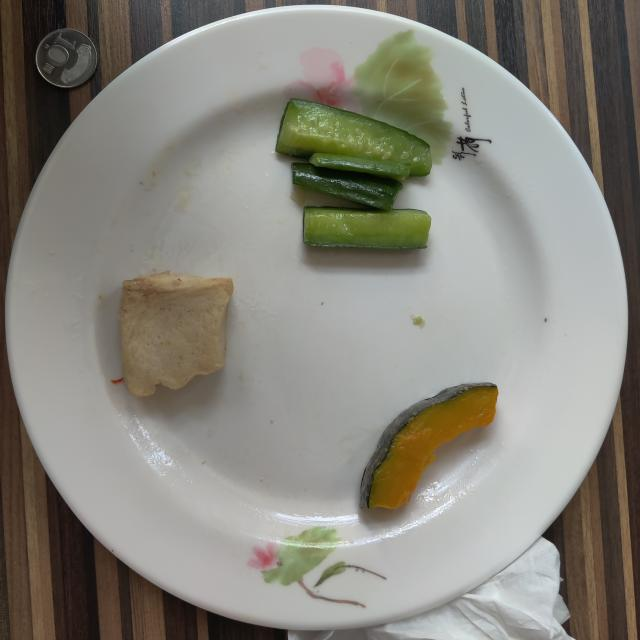coin: (35, 29, 98, 88)
creamy tofu -without sauce-: (119, 271, 234, 396)
cucumber: (275, 99, 432, 249)
pumpkin: (360, 382, 499, 509)
